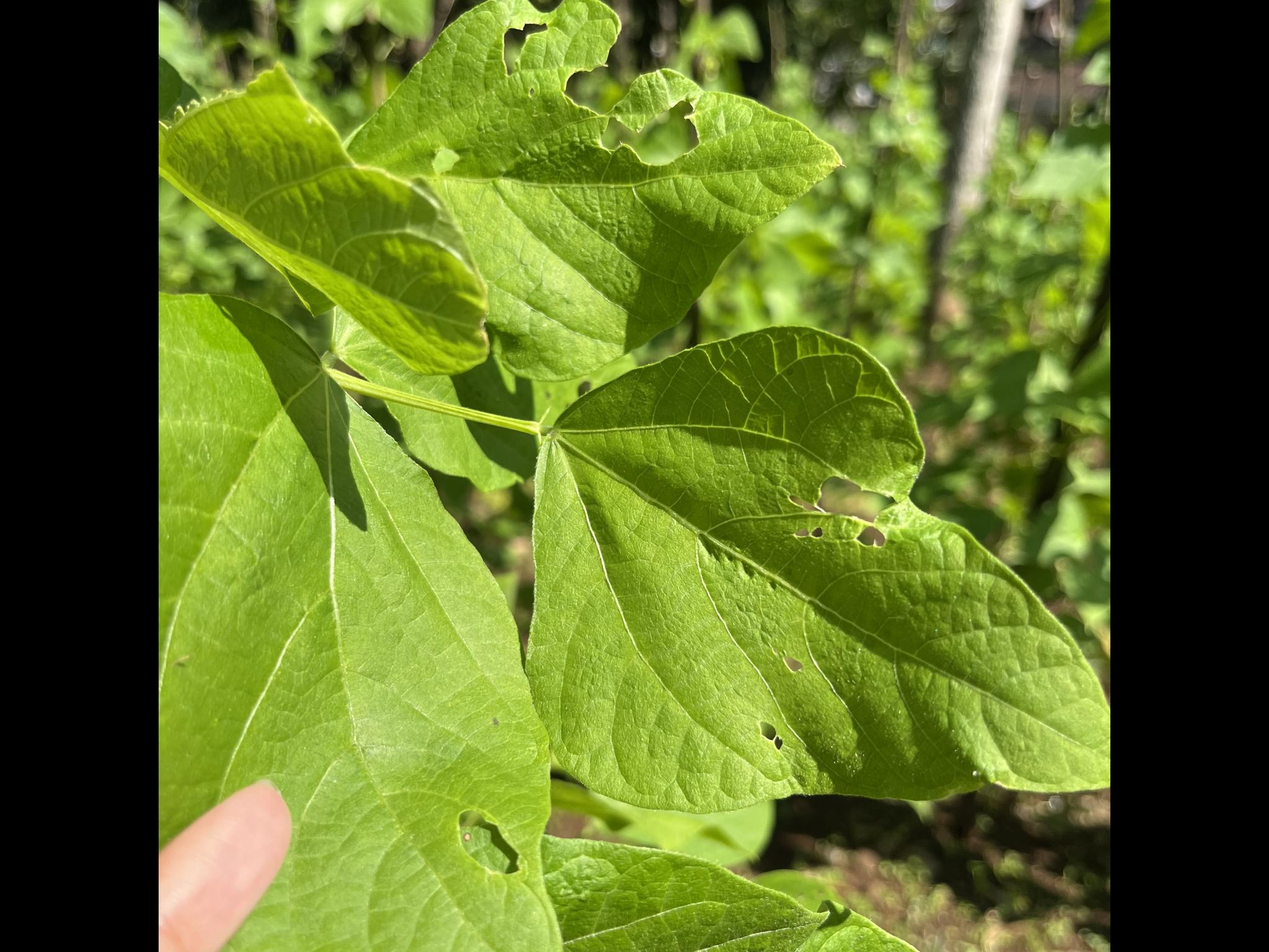mozaik: (790, 460, 899, 568), (588, 96, 708, 181)
